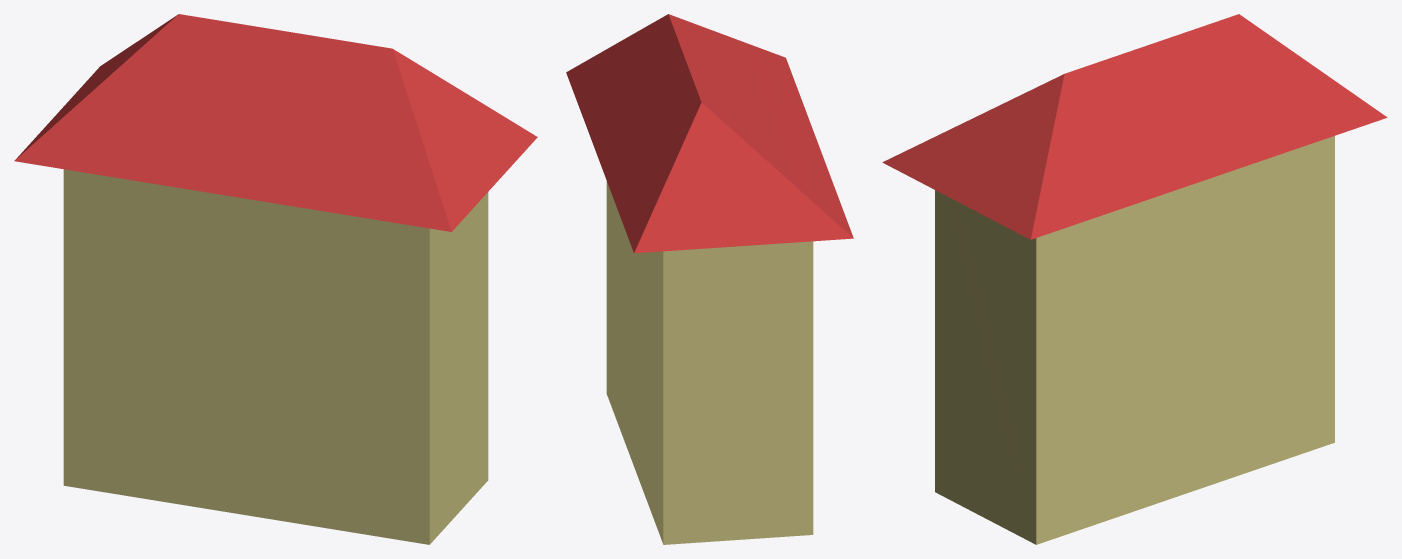
3 renders of one model, left to right at view 1: azimuth 30°, elevation 25°; view 2: azimuth 150°, elevation 25°; view 3: azimuth 270°, elevation 25°, orthographic. The views are drawn at different scales.
Size of the model in its own units: 6.29 by 6.73 by 6.35.
